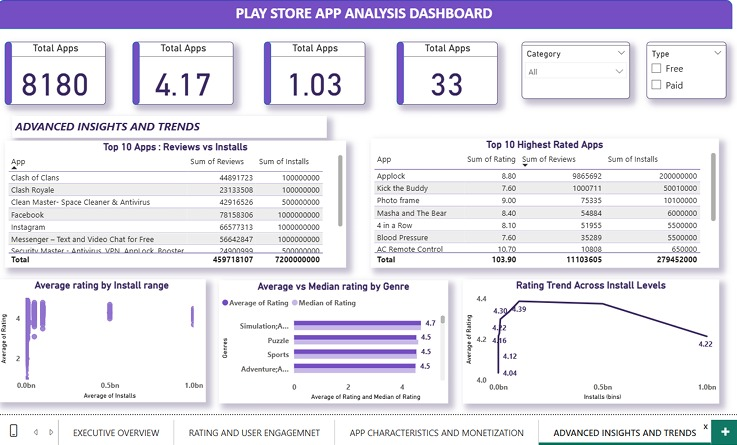

The dashboard page shown, as its layout file describes it:
{"tool":"powerbi","page":{"name":"ADVANCED INSIGHTS AND TRENDS","canvas":[1280,720],"ordinal":3},"visuals":[{"type":"shape","box":[9.8,9.8,1259.5,50.1],"z":0},{"type":"textbox","box":[413.3,11,495.2,48.9],"z":1000},{"type":"card","title":"Total Apps","fields":{"Values":["googleplaystore (3).Total Apps"]},"box":[22,81.9,172.4,107.6],"z":2000},{"type":"shape","box":[22,81.9,12.2,107.6],"z":3000},{"type":"card","title":"Total Apps","fields":{"Values":["googleplaystore (3).Total Categories"]},"box":[694.6,81.9,172.4,107.6],"z":4000},{"type":"card","title":"Total Apps","fields":{"Values":["Avg(googleplaystore (3).Price)"]},"box":[465.9,81.9,173.6,107.6],"z":5000},{"type":"card","title":"Total Apps","fields":{"Values":["googleplaystore (3).Average Rating"]},"box":[240.9,81.9,172.4,107.6],"z":6000},{"type":"shape","box":[465.9,81.9,12.2,107.6],"z":7000},{"type":"shape","box":[240.9,81.9,12.2,107.6],"z":8000},{"type":"shape","box":[694.6,81.9,12.2,107.6],"z":9000},{"type":"textbox","box":[34.2,209.1,539.3,37.9],"z":10000},{"type":"clusteredBarChart","title":"Average vs Median rating by Genre","fields":{"Category":["googleplaystore (3).Genres"],"Y":["Avg(googleplaystore (3).Rating)","Median(googleplaystore (3).Rating)1"]},"box":[388.9,490.4,392.5,211.6],"z":11000},{"type":"lineChart","title":"Rating Trend Across Install Levels","fields":{"Y":["Avg(googleplaystore (3).Rating)"],"Category":["googleplaystore (3).Installs (bins)"]},"box":[806.9,488.5,439.1,212.7],"z":12000},{"type":"slicer","fields":{"Values":["googleplaystore (3).Category"]},"box":[908.6,81.9,185.9,97.8],"z":13000},{"type":"slicer","fields":{"Values":["googleplaystore (3).Type"]},"box":[1122.6,81.9,137,97.8],"z":14000},{"type":"tableEx","title":"Top 10 Highest Rated Apps","fields":{"Values":["googleplaystore (3).App","Sum(googleplaystore (3).Rating)","Sum(googleplaystore (3).Reviews)","Sum(googleplaystore (3).Installs)"]},"box":[649.3,247,596.7,221.3],"z":15000},{"type":"tableEx","title":"Top 10 Apps : Reviews vs Installs","fields":{"Values":["googleplaystore (3).App","Sum(googleplaystore (3).Reviews)","Sum(googleplaystore (3).Installs)"]},"box":[22,250.7,584.5,217.7],"z":16000},{"type":"scatterChart","title":"Average rating by Install range","fields":{"X":["Avg(googleplaystore (3).Installs)"],"Y":["Avg(googleplaystore (3).Rating)"],"Category":["googleplaystore (3).App"]},"box":[9.8,489.1,357.1,210.3],"z":17000}]}

Visuals, with their boxes on the page's 1280x720 design canvas (x1, y1, x2, y2). These are canvas units, not pixel positions in the 737x445 screenshot, which may show the page scaled, cropped or inside an application window:
shape: rect(10, 10, 1269, 60)
textbox: rect(413, 11, 908, 60)
"Total Apps" card: rect(22, 82, 194, 190)
shape: rect(22, 82, 34, 190)
"Total Apps" card: rect(695, 82, 867, 190)
"Total Apps" card: rect(466, 82, 640, 190)
"Total Apps" card: rect(241, 82, 413, 190)
shape: rect(466, 82, 478, 190)
shape: rect(241, 82, 253, 190)
shape: rect(695, 82, 707, 190)
textbox: rect(34, 209, 574, 247)
"Average vs Median rating by Genre" clusteredBarChart: rect(389, 490, 781, 702)
"Rating Trend Across Install Levels" lineChart: rect(807, 488, 1246, 701)
slicer - googleplaystore (3).Category: rect(909, 82, 1094, 180)
slicer - googleplaystore (3).Type: rect(1123, 82, 1260, 180)
"Top 10 Highest Rated Apps" tableEx: rect(649, 247, 1246, 468)
"Top 10 Apps : Reviews vs Installs" tableEx: rect(22, 251, 606, 468)
"Average rating by Install range" scatterChart: rect(10, 489, 367, 699)
